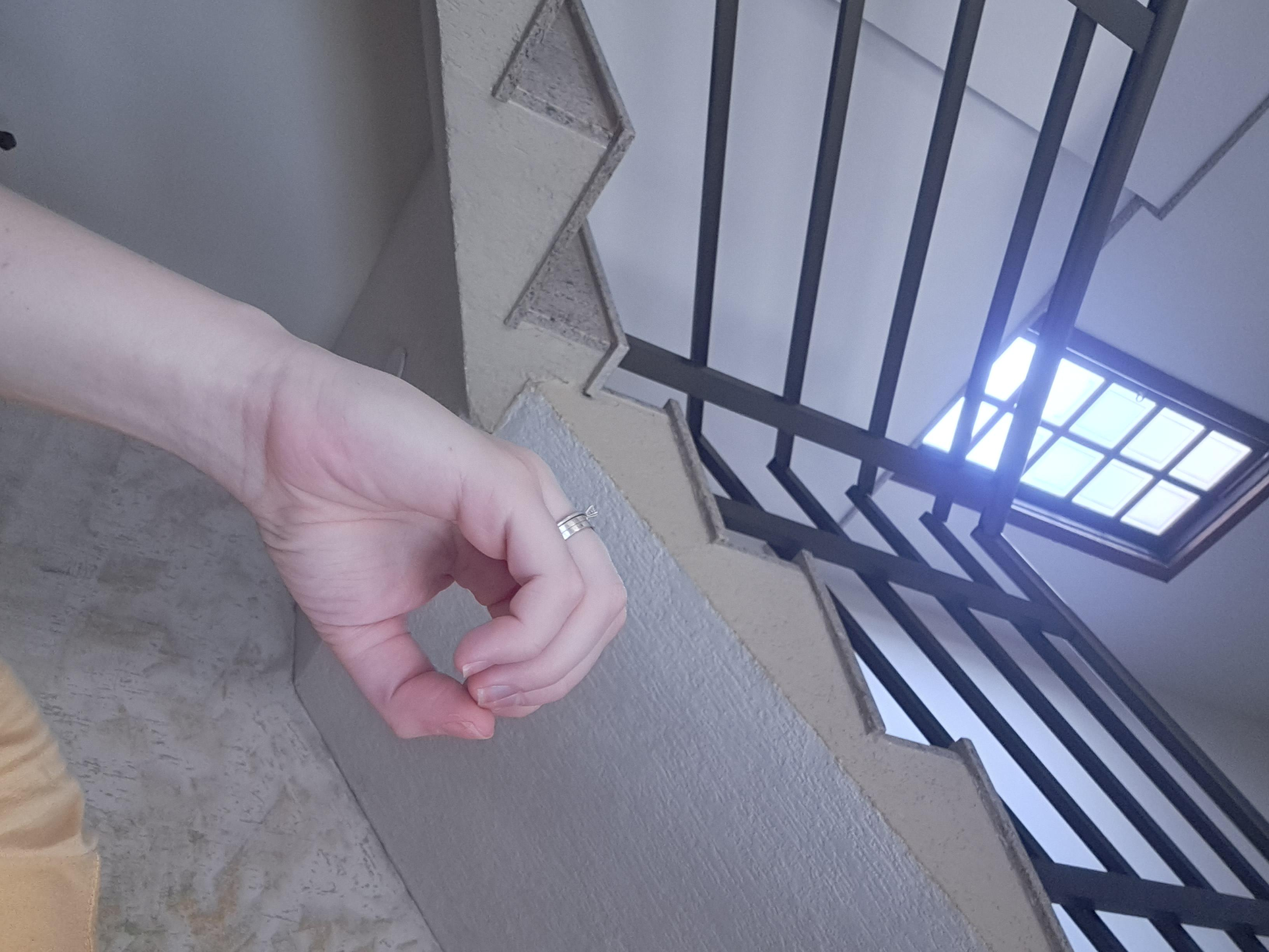O: (467, 484, 1000, 782)
